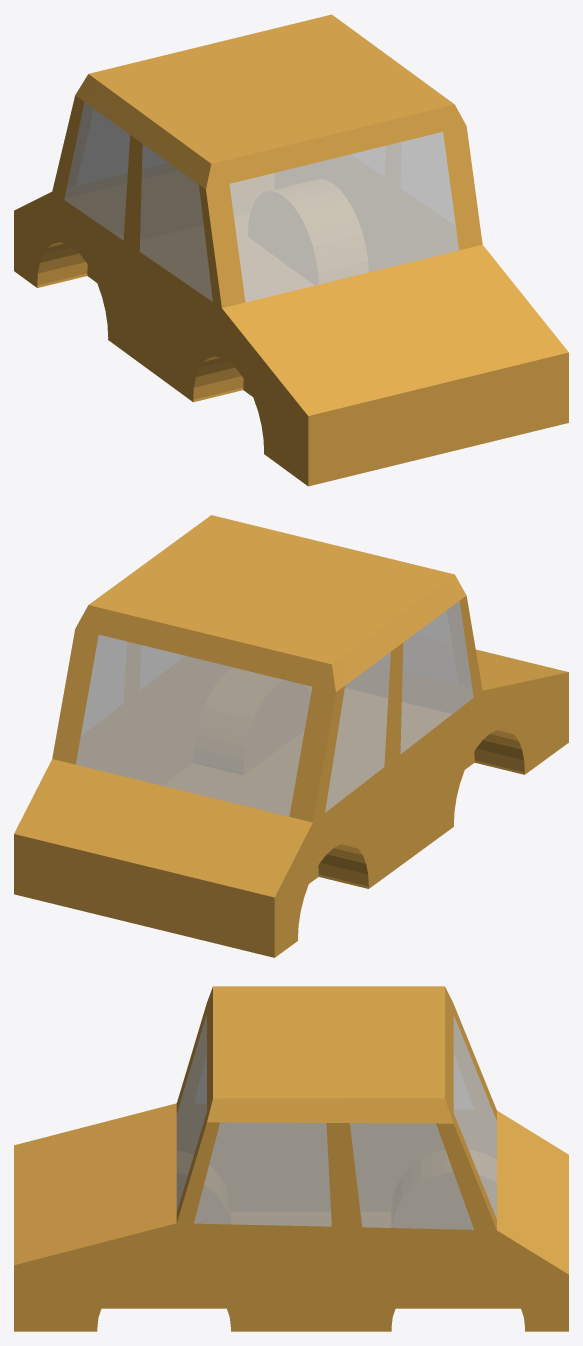
File: Car.fbx
3 views of the same model, one above another, from view 1: azimuth 30°, elevation 25°; view 2: azimuth 150°, elevation 25°; view 3: azimuth 270°, elevation 25° (orthographic). The views are drawn at different scales.
Visible parts, largest first — view 1: Car; view 2: Car; view 3: Car.
Part boxes in pixels (x1,y1,x2,y2): Car: (14, 14, 568, 486); Car: (14, 515, 568, 957); Car: (14, 986, 568, 1331).
Size of the model in its own units: 200 by 178 by 391.
